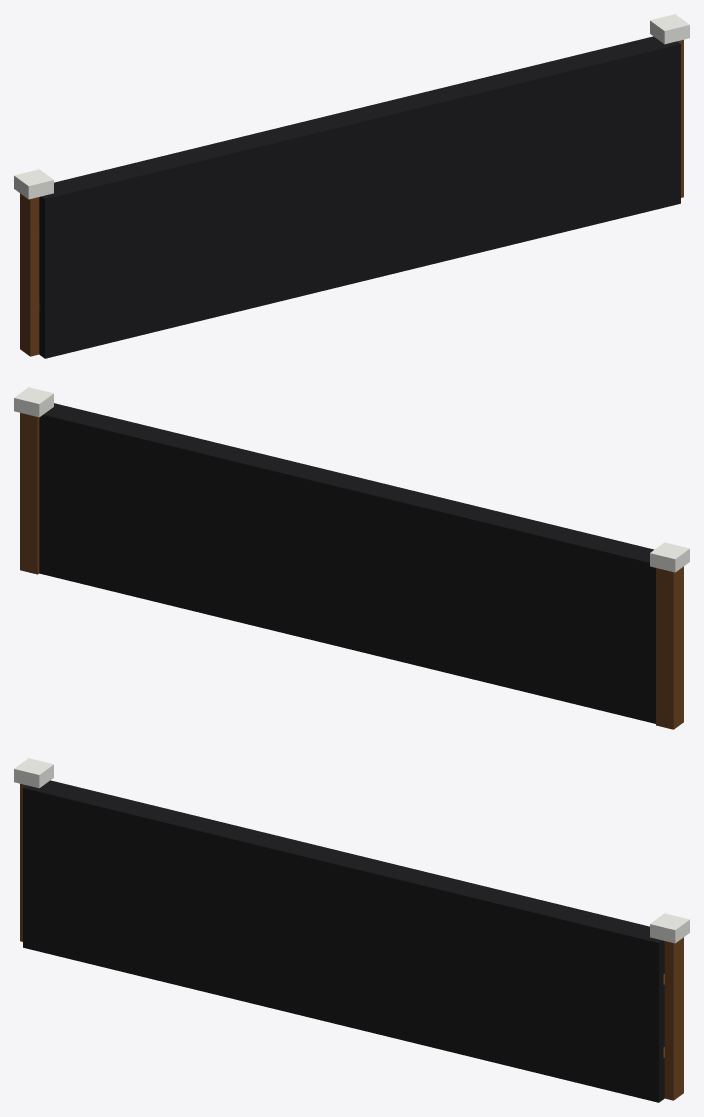
File: env_kb_fence.fbx
The picture shows the model from 3 angles, top to bottom: view 1: azimuth 30°, elevation 25°; view 2: azimuth 150°, elevation 25°; view 3: azimuth 330°, elevation 25°; orthographic projection.
Parts seen in each view (by area): view 1: COL_env_kb_fence, env_kb_fence_geo; view 2: COL_env_kb_fence, env_kb_fence_geo; view 3: COL_env_kb_fence, env_kb_fence_geo.
Boxes of the visible parts, x1,y1,x2,y2 form: COL_env_kb_fence: [39, 36, 680, 358]; env_kb_fence_geo: [14, 14, 689, 356]; COL_env_kb_fence: [39, 403, 655, 723]; env_kb_fence_geo: [14, 387, 689, 729]; COL_env_kb_fence: [23, 780, 664, 1102]; env_kb_fence_geo: [14, 758, 689, 1100].
Size of the model in its own units: 5.2 by 1.3 by 0.25.
